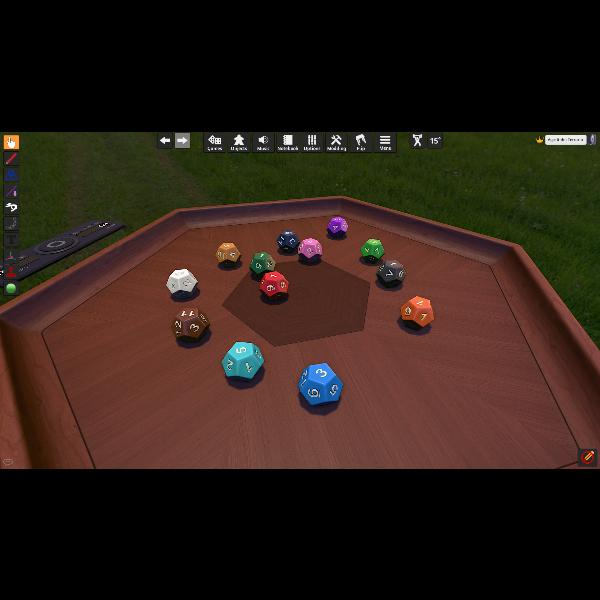d12: (298, 361, 342, 405), (222, 341, 262, 379), (169, 307, 209, 341), (399, 295, 429, 329), (166, 268, 200, 298), (259, 270, 289, 300), (375, 260, 403, 286), (250, 252, 276, 276), (360, 239, 384, 263), (216, 242, 238, 268), (298, 238, 322, 260), (277, 230, 299, 252), (327, 215, 347, 236)
